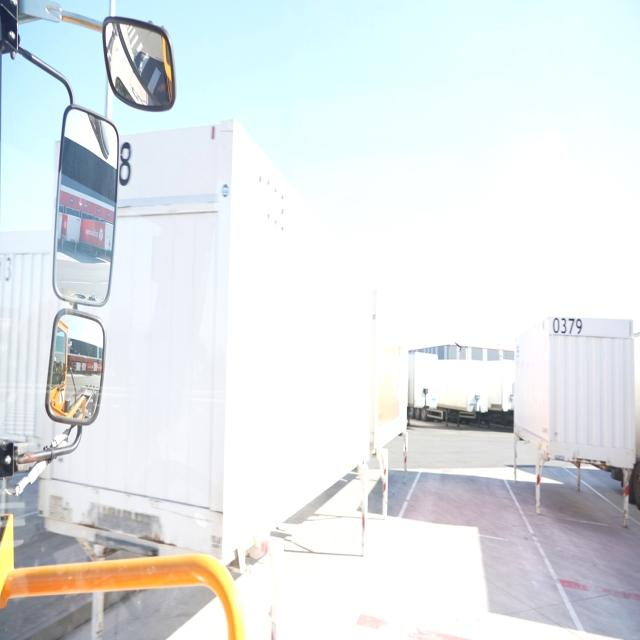Code: (548, 312, 584, 340)
